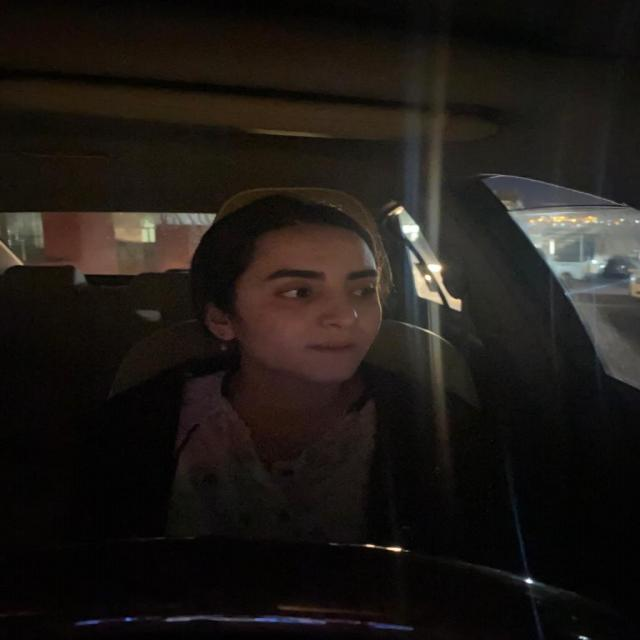person: (188, 188, 406, 400)
